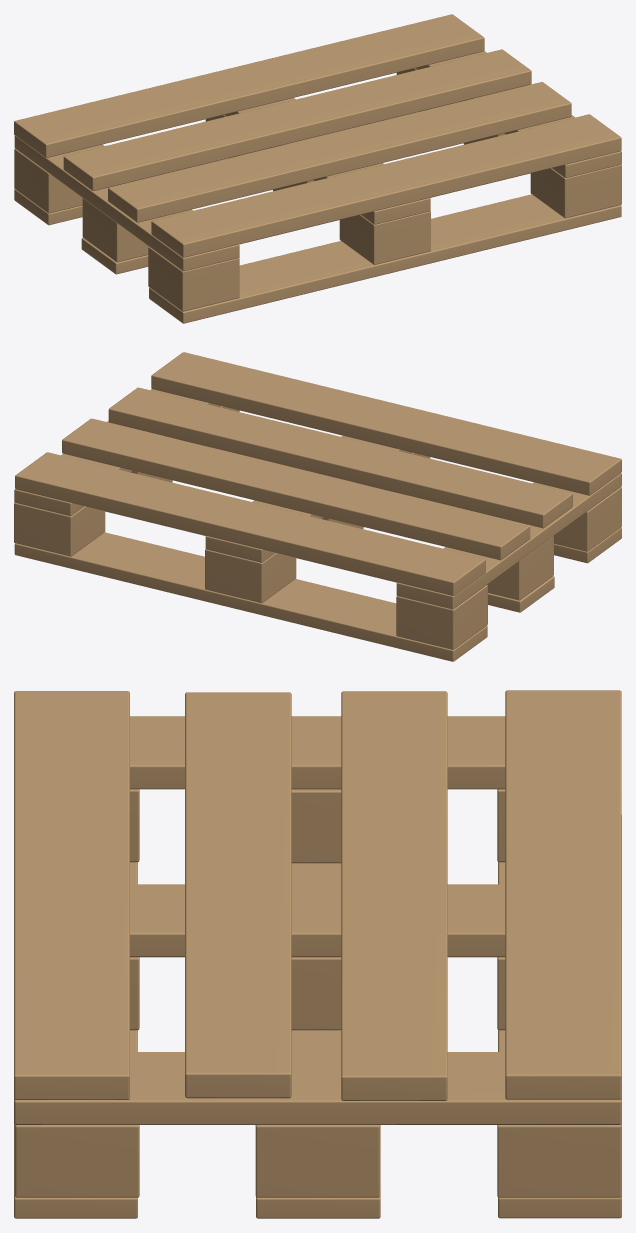
File: pallet_a01.glb
The picture shows the model from 3 angles, top to bottom: view 1: azimuth 30°, elevation 25°; view 2: azimuth 150°, elevation 25°; view 3: azimuth 270°, elevation 25°; orthographic projection. The views are drawn at different scales.
Parts seen in each view (by area): view 1: pallet_a01; view 2: pallet_a01; view 3: pallet_a01.
Part boxes in pixels (left/top/right/bottom): pallet_a01: left=14, top=14, right=621, bottom=323; pallet_a01: left=14, top=352, right=621, bottom=661; pallet_a01: left=14, top=690, right=621, bottom=1218.
Bounding box in the file's own units: 1.2 × 0.2086 × 0.8004.
